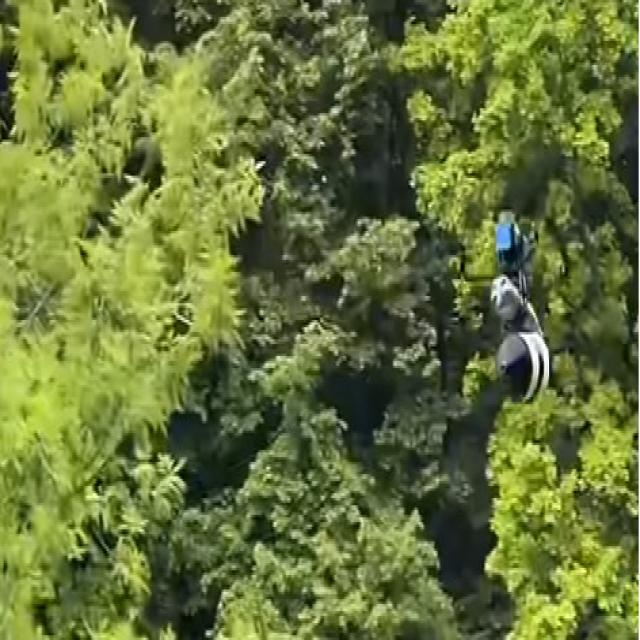drone: (445, 214, 587, 404)
